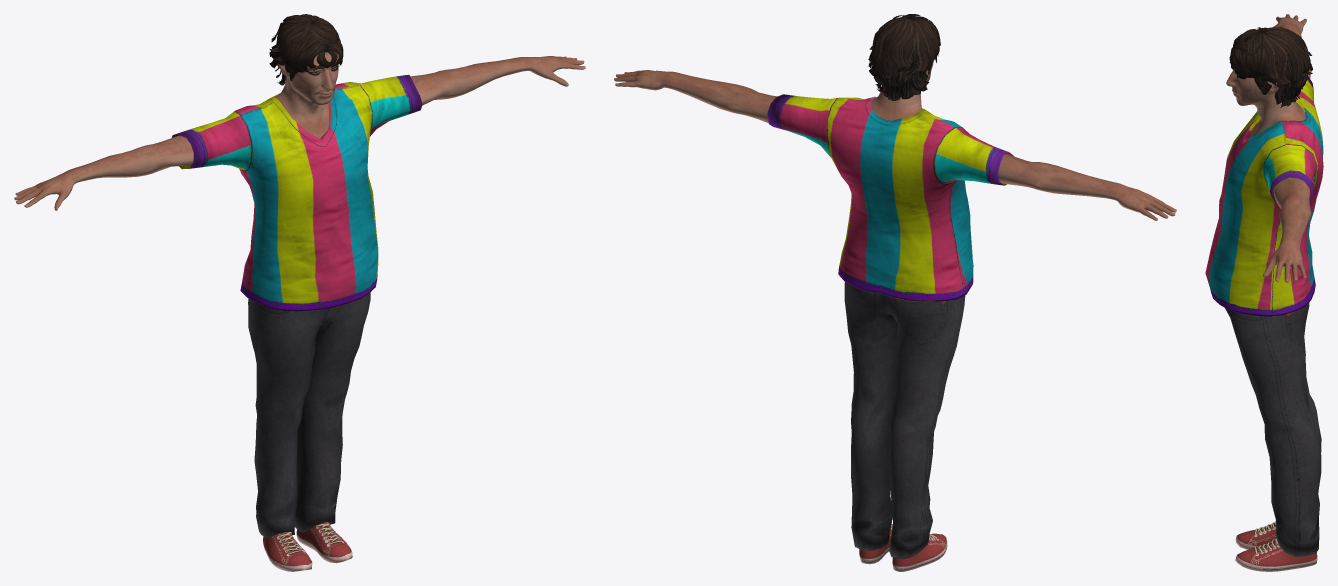
The model's file is Hero.obj.
3 views of the same model, side by side, from view 1: azimuth 30°, elevation 25°; view 2: azimuth 150°, elevation 25°; view 3: azimuth 270°, elevation 25° (orthographic). The views are drawn at different scales.
Visible parts, largest first — view 1: Tops, Bottoms, Body, Hair, Shoes; view 2: Tops, Bottoms, Body, Hair, Shoes; view 3: Tops, Bottoms, Body, Hair, Shoes.
Part boxes in pixels (x1=…): Tops: x1=171, y1=74, x2=422, y2=311; Bottoms: x1=248, y1=292, x2=370, y2=537; Body: x1=14, y1=52, x2=585, y2=210; Hair: x1=269, y1=14, x2=343, y2=85; Shoes: x1=263, y1=521, x2=352, y2=571; Tops: x1=767, y1=94, x2=1014, y2=301; Bottoms: x1=844, y1=282, x2=965, y2=559; Body: x1=614, y1=61, x2=1176, y2=220; Hair: x1=868, y1=14, x2=940, y2=100; Shoes: x1=859, y1=524, x2=947, y2=571; Tops: x1=1205, y1=76, x2=1323, y2=316; Bottoms: x1=1225, y1=303, x2=1321, y2=556; Body: x1=1226, y1=14, x2=1311, y2=282; Hair: x1=1229, y1=27, x2=1312, y2=108; Shoes: x1=1235, y1=521, x2=1317, y2=571.
Bounding box in the file's own units: 200 × 182 × 37.1.
Materials: 5 (5 with a texture image).
